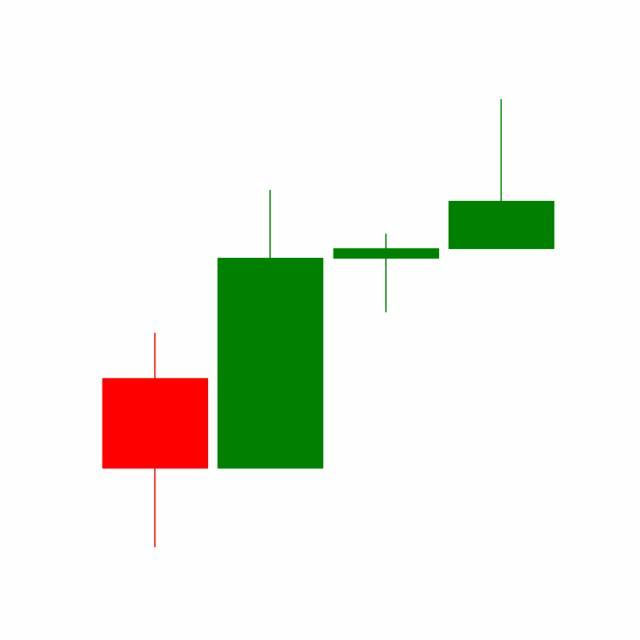Spinning Top: (329, 233, 445, 314)
